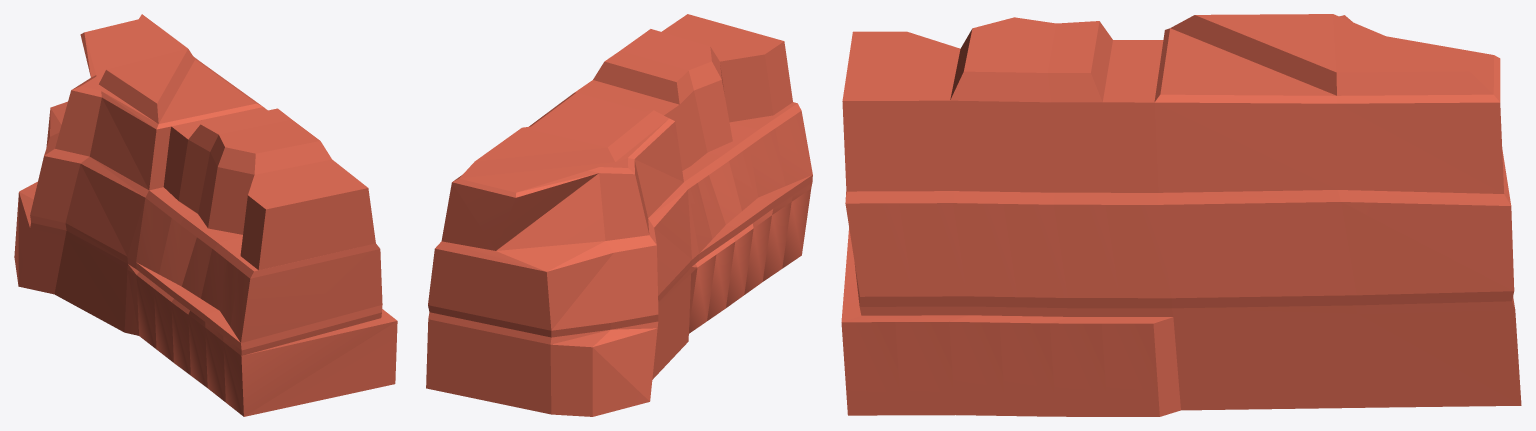
The model's file is Roca1.fbx.
3 views of the same model, side by side, from view 1: azimuth 30°, elevation 25°; view 2: azimuth 150°, elevation 25°; view 3: azimuth 270°, elevation 25° (orthographic). The views are drawn at different scales.
Visible parts, largest first — view 1: Cube.003; view 2: Cube.003; view 3: Cube.003.
Boxes of the visible parts, box(x1,y1,x2,y2) form: Cube.003: box(14, 14, 397, 416); Cube.003: box(426, 14, 812, 416); Cube.003: box(841, 14, 1521, 416).
Bounding box in the file's own units: 1923 × 2162 × 4167.
